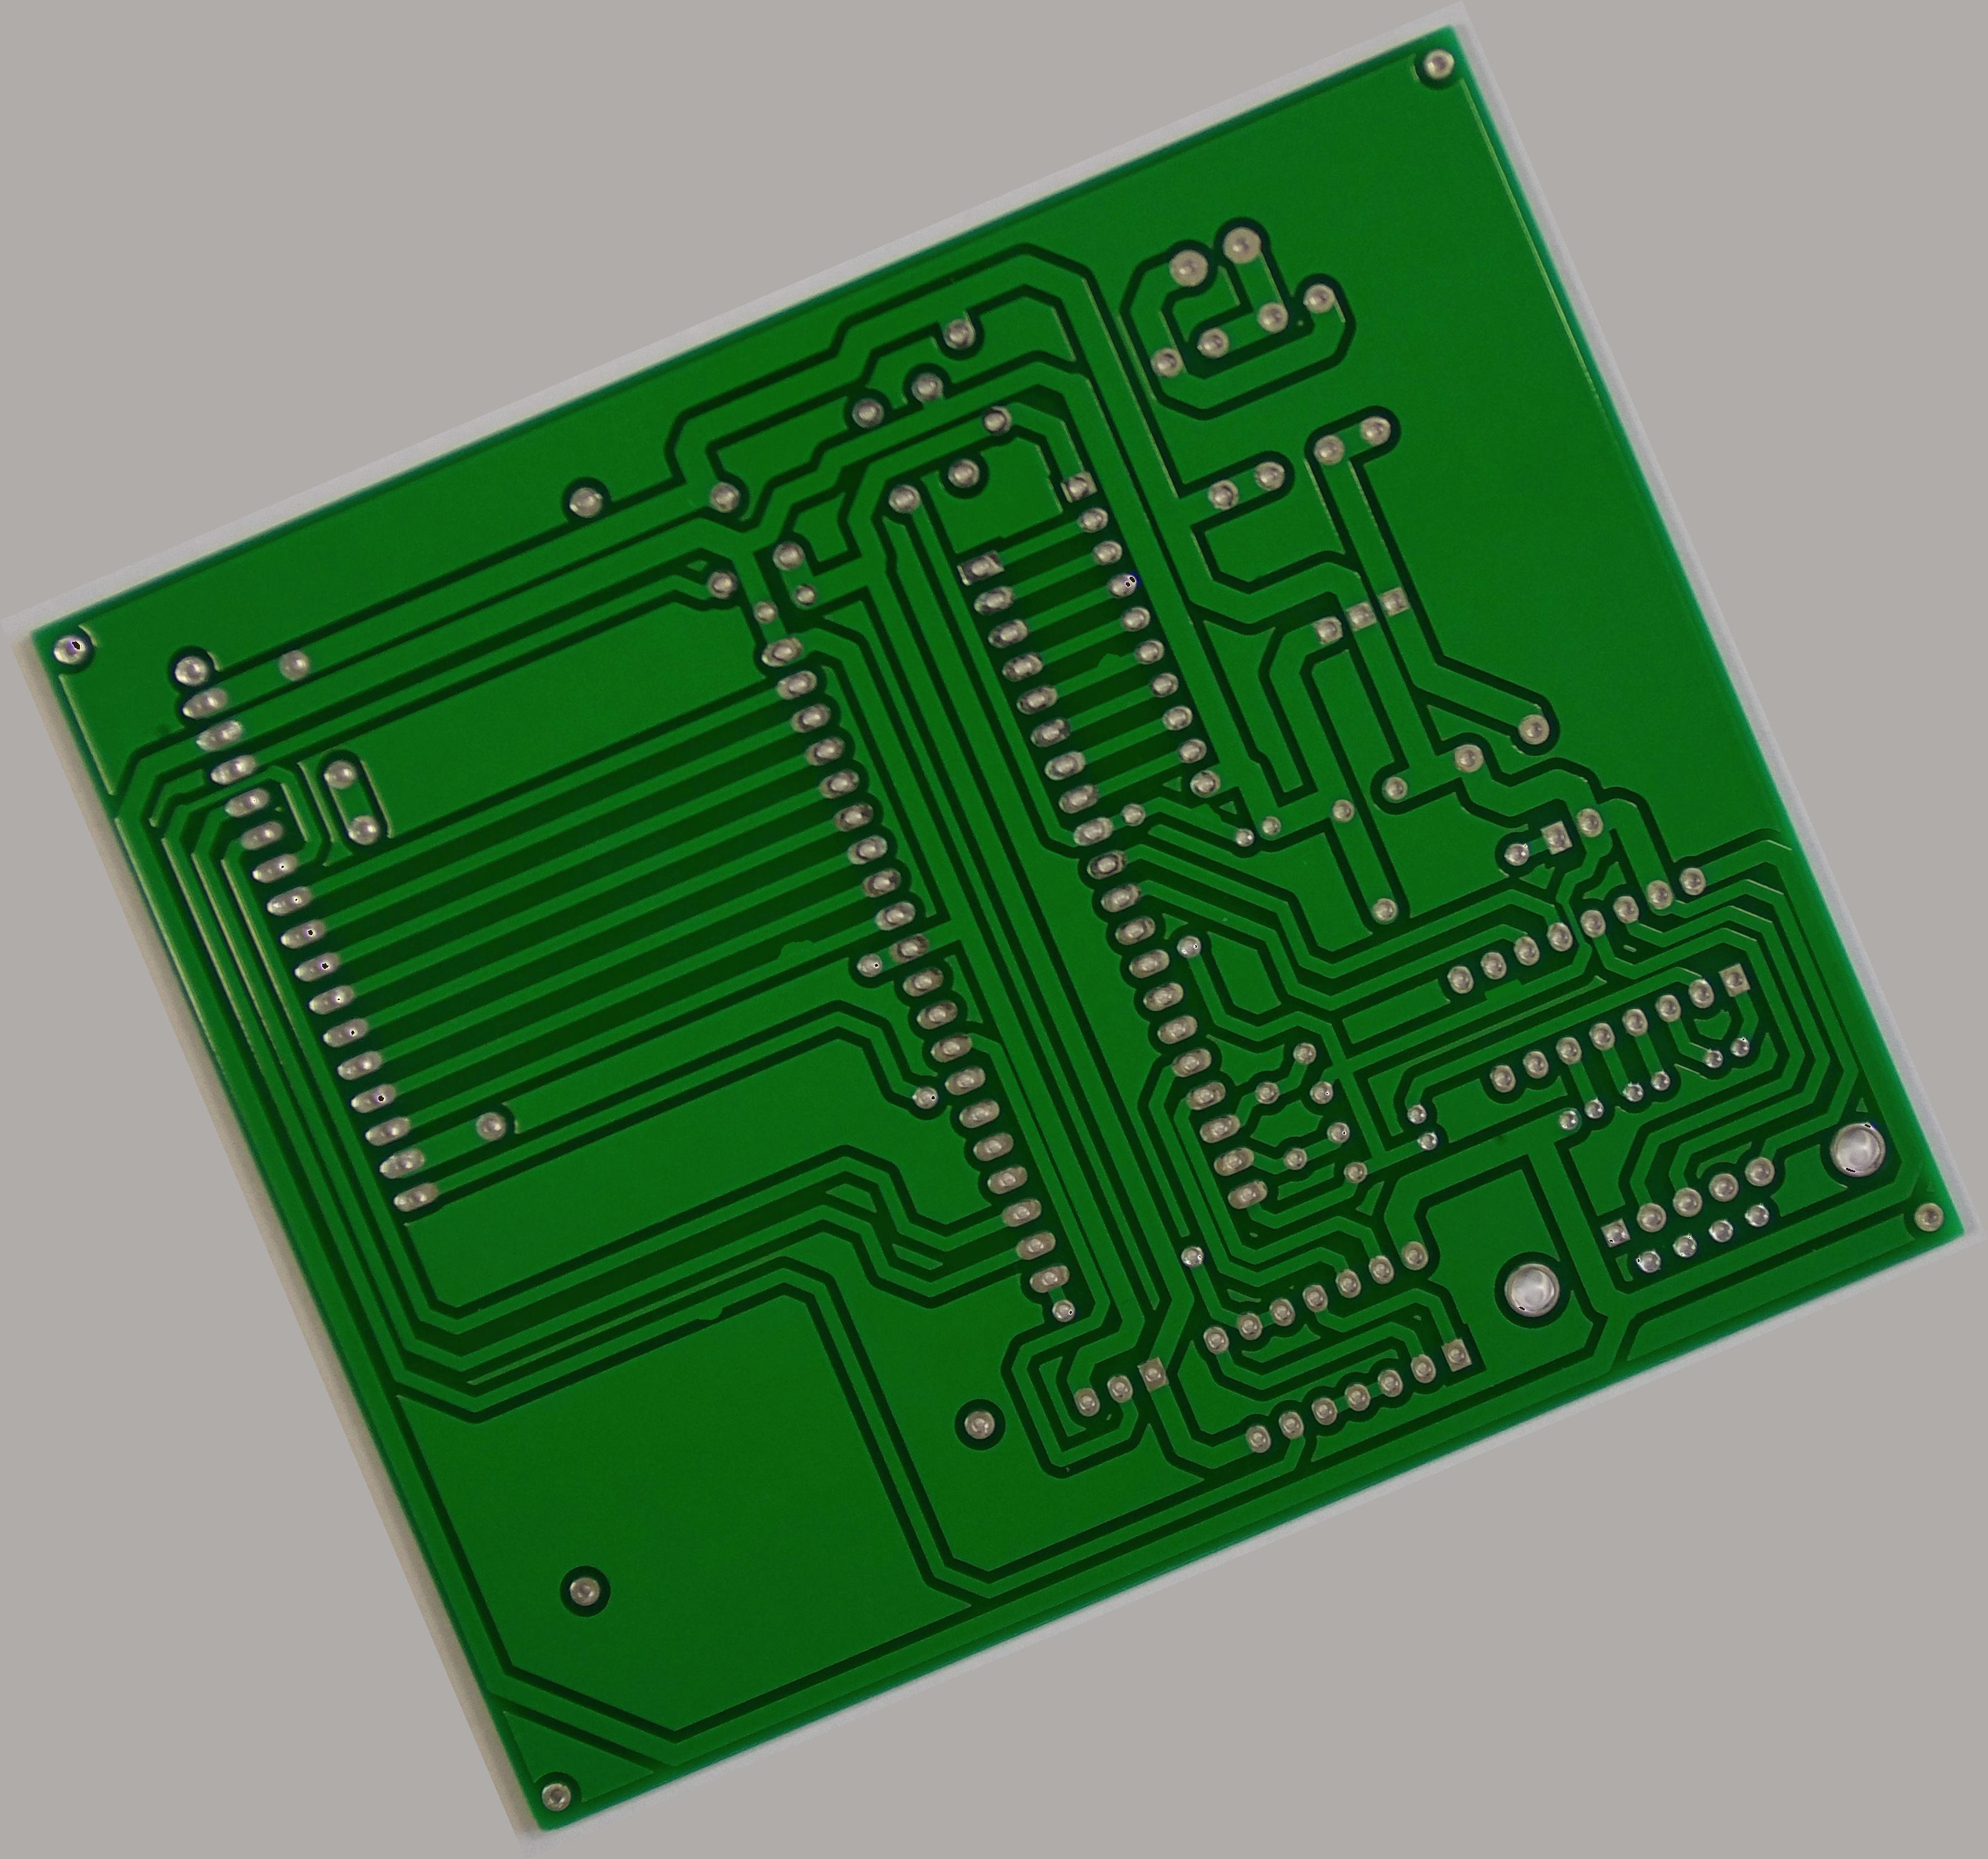spur: (762, 923, 830, 977), (1176, 790, 1233, 840), (683, 1288, 734, 1335), (1476, 968, 1530, 1010), (1083, 636, 1132, 681)
